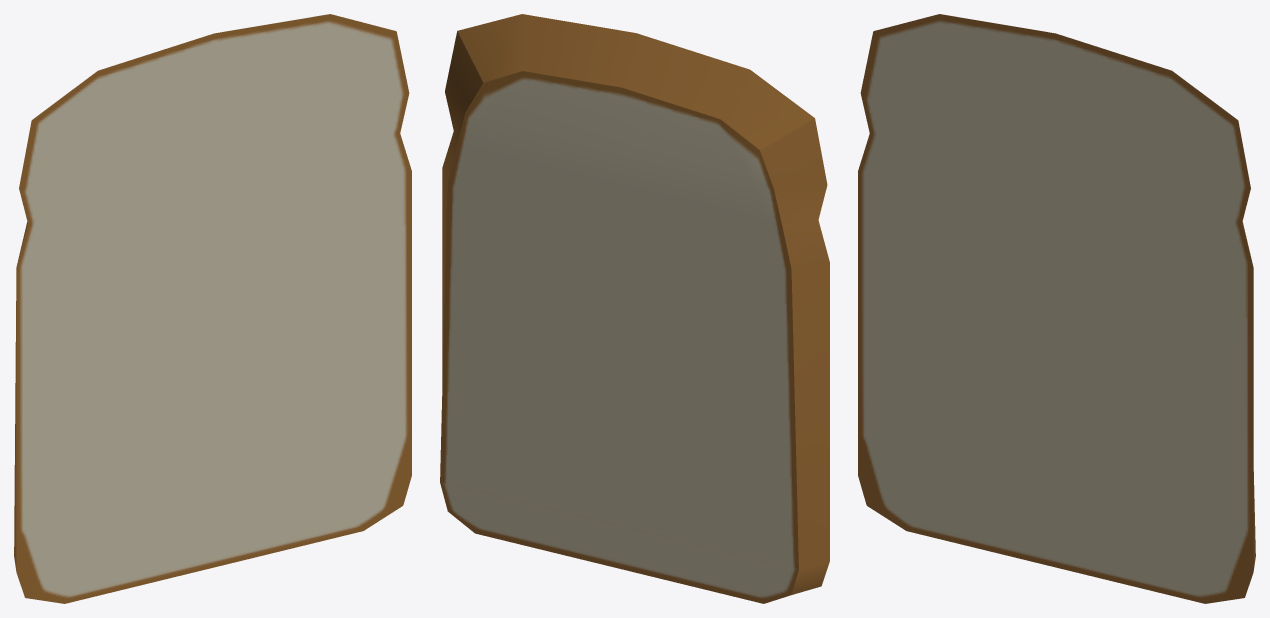
Rendered from Bread_Piece_2_End_2nd_MDL.fbx.
3 views of the same model, side by side, from view 1: azimuth 30°, elevation 25°; view 2: azimuth 150°, elevation 25°; view 3: azimuth 330°, elevation 25° (orthographic). The views are drawn at different scales.
Visible parts, largest first — view 1: bread_middle_to_end_2; view 2: bread_middle_to_end_2; view 3: bread_middle_to_end_2.
Boxes of the visible parts, x1,y1,x2,y2 form: bread_middle_to_end_2: (14, 14, 411, 603); bread_middle_to_end_2: (440, 14, 829, 603); bread_middle_to_end_2: (858, 14, 1255, 603).
Size of the model in its own units: 16.31 by 21.04 by 1.21.
